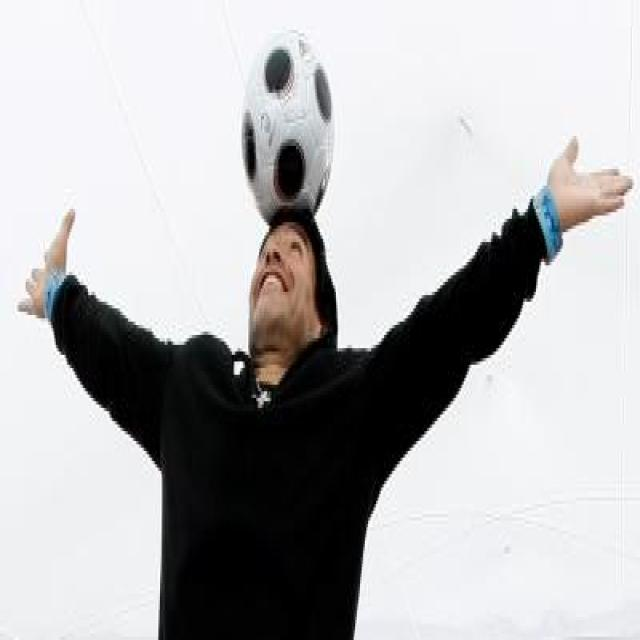soccer ball: (243, 23, 336, 222)
